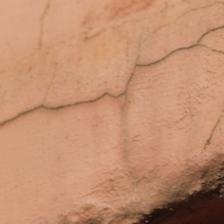Crack: (154, 8, 224, 46), (67, 97, 132, 128)
